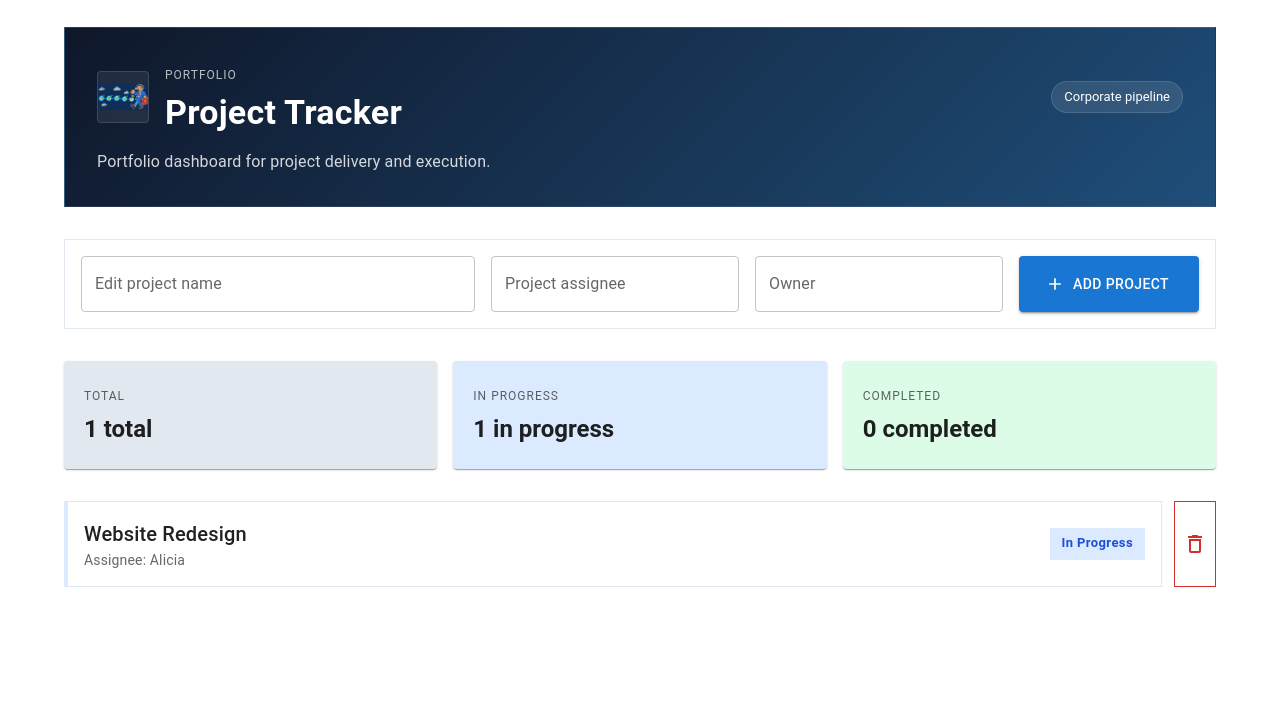
Test: deletes a task from the selected project
The width and height of the screenshot is (1280, 715).
Step 1. Click the button with aria-label "select website redesign" → (165, 534), box [64,501,1162,587]
(page scrolled)
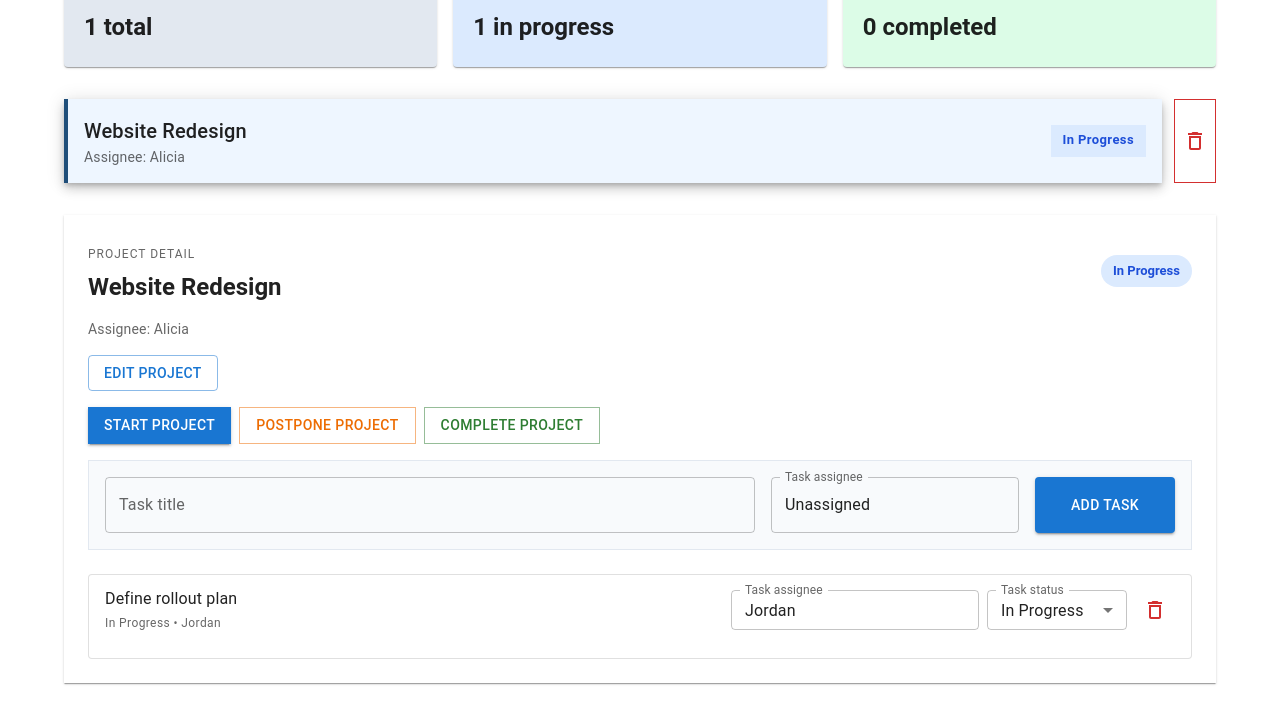
Step 2. Click the button named "delete define rollout plan" → (1155, 610), box [1135,590,1175,630]
(page scrolled)
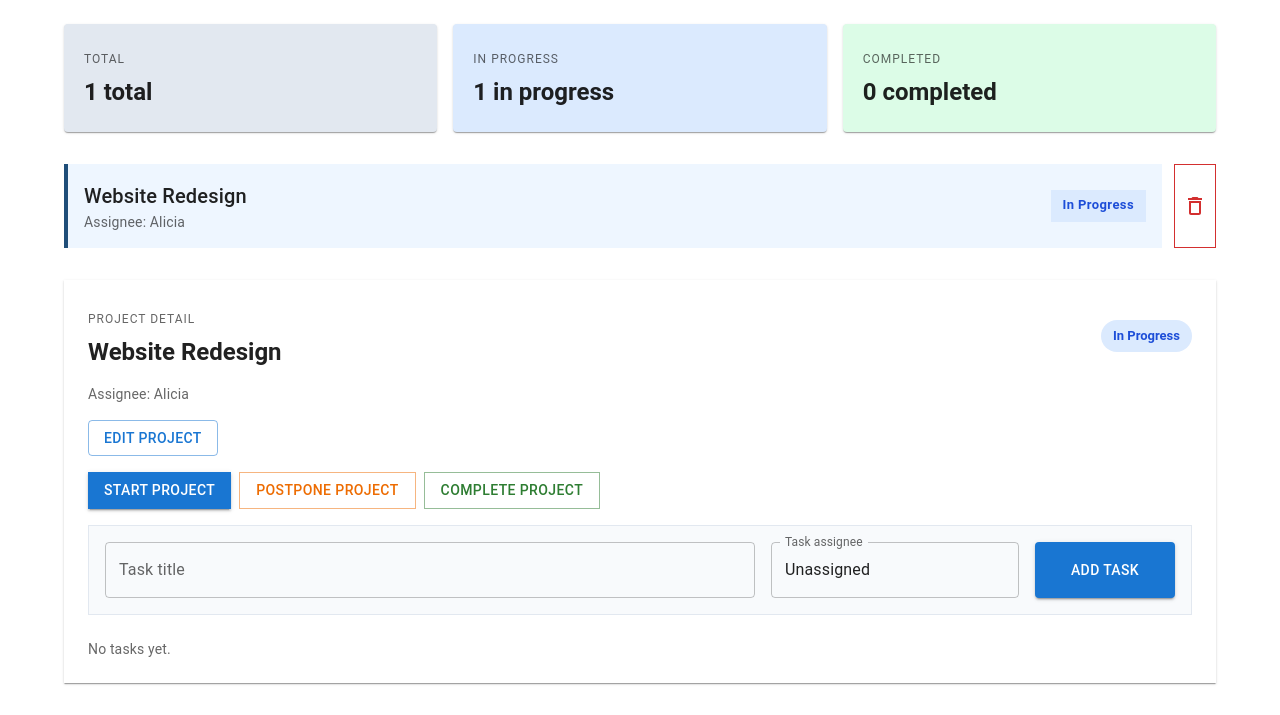
Expected: the text "Define rollout plan" is gone
